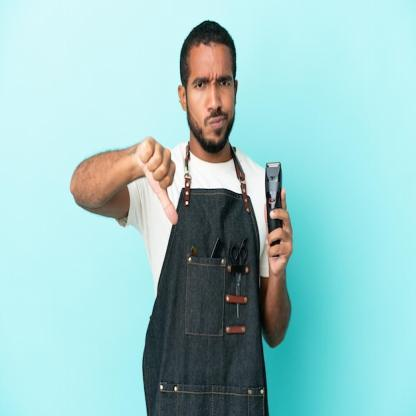thumb_down: (135, 131, 184, 231)
